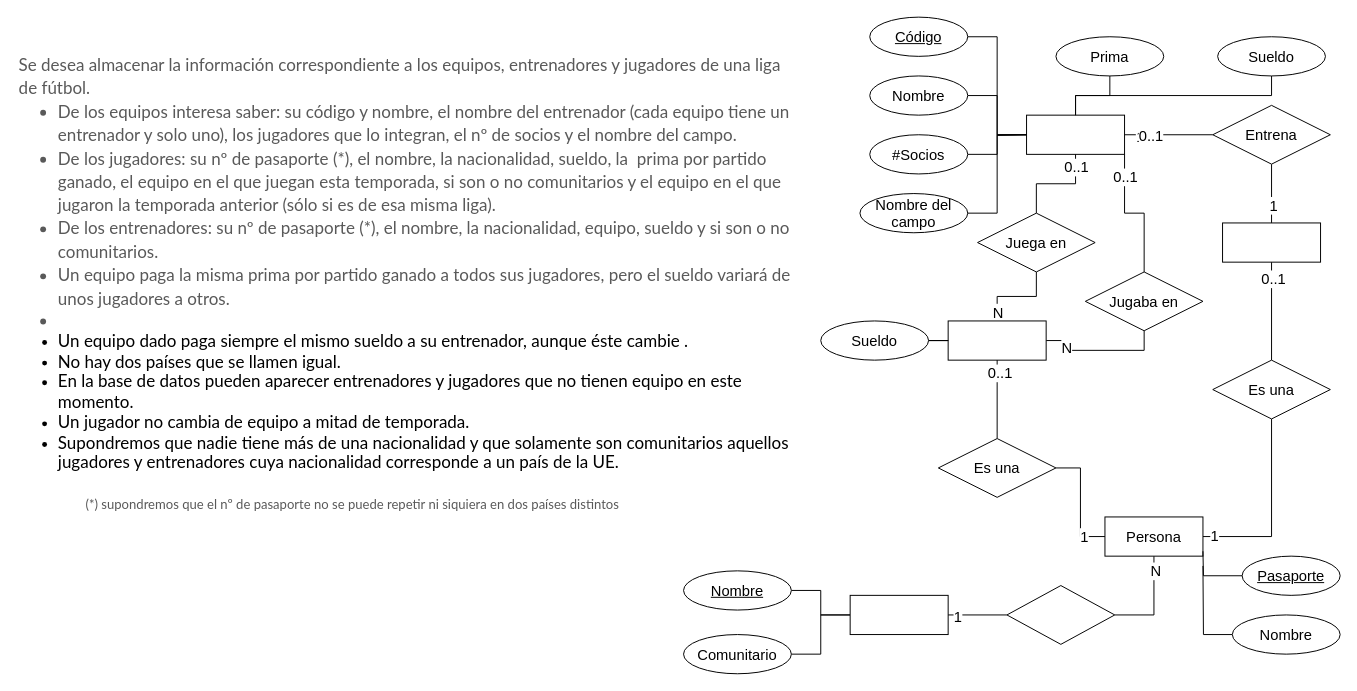
Some shapes in this 1357 by 691 pixel diagram are drawn without their labels. The shapes that lost their labels are listed below. From the top down, each one's box as (x1, y1, x2, y2) in pixels, then its label:
(1026, 114, 1125, 154): Equipo
(1222, 222, 1321, 262): Entrenador
(947, 320, 1046, 360): Jugador
(849, 594, 948, 635): País
(1006, 585, 1115, 644): Está nacionalizada en
